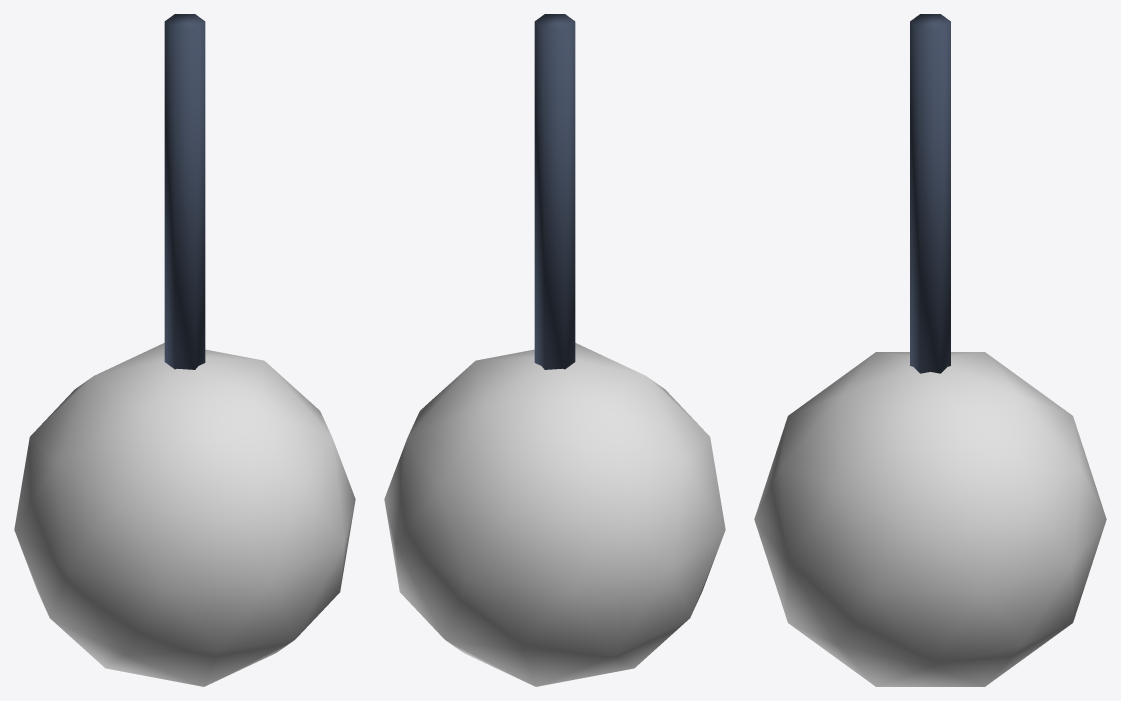
The model's file is Lamp.fbx.
3 renders of one model, left to right at view 1: azimuth 30°, elevation 25°; view 2: azimuth 150°, elevation 25°; view 3: azimuth 270°, elevation 25°, orthographic.
Parts seen in each view (by area): view 1: Icosphere, Cylinder; view 2: Icosphere, Cylinder; view 3: Icosphere, Cylinder.
Boxes of the visible parts, box(x1,y1,x2,y2) form: Icosphere: box(14, 343, 355, 686); Cylinder: box(164, 14, 205, 369); Icosphere: box(384, 343, 725, 686); Cylinder: box(534, 14, 575, 369); Icosphere: box(754, 352, 1106, 686); Cylinder: box(910, 14, 950, 373).
Bounding box in the file's own units: 0.6529 × 1.41 × 0.6865.
2 materials, 1 textured.
